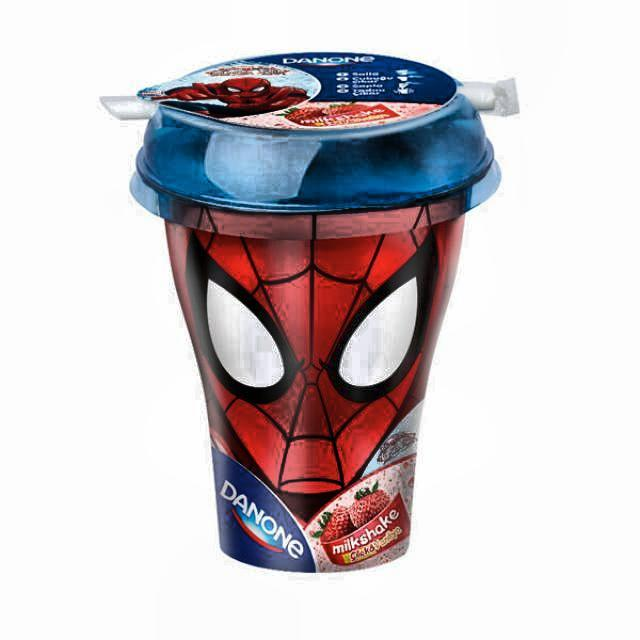plastic: (129, 51, 503, 576)
